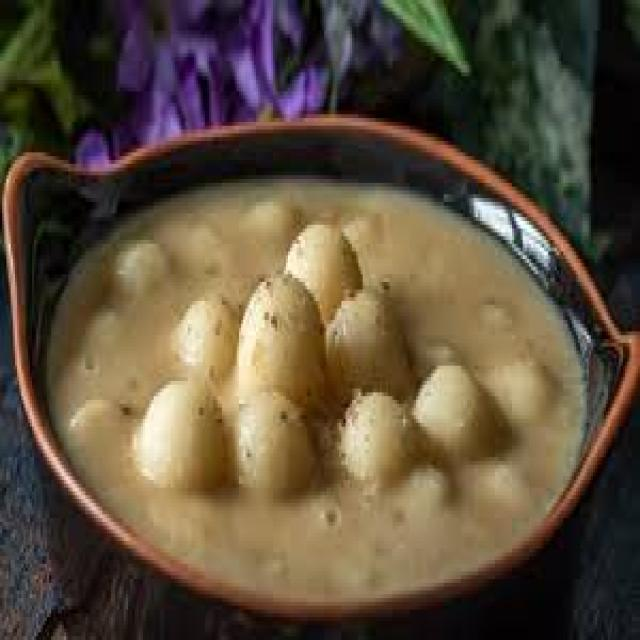paal kolukattai: (52, 150, 581, 611)
